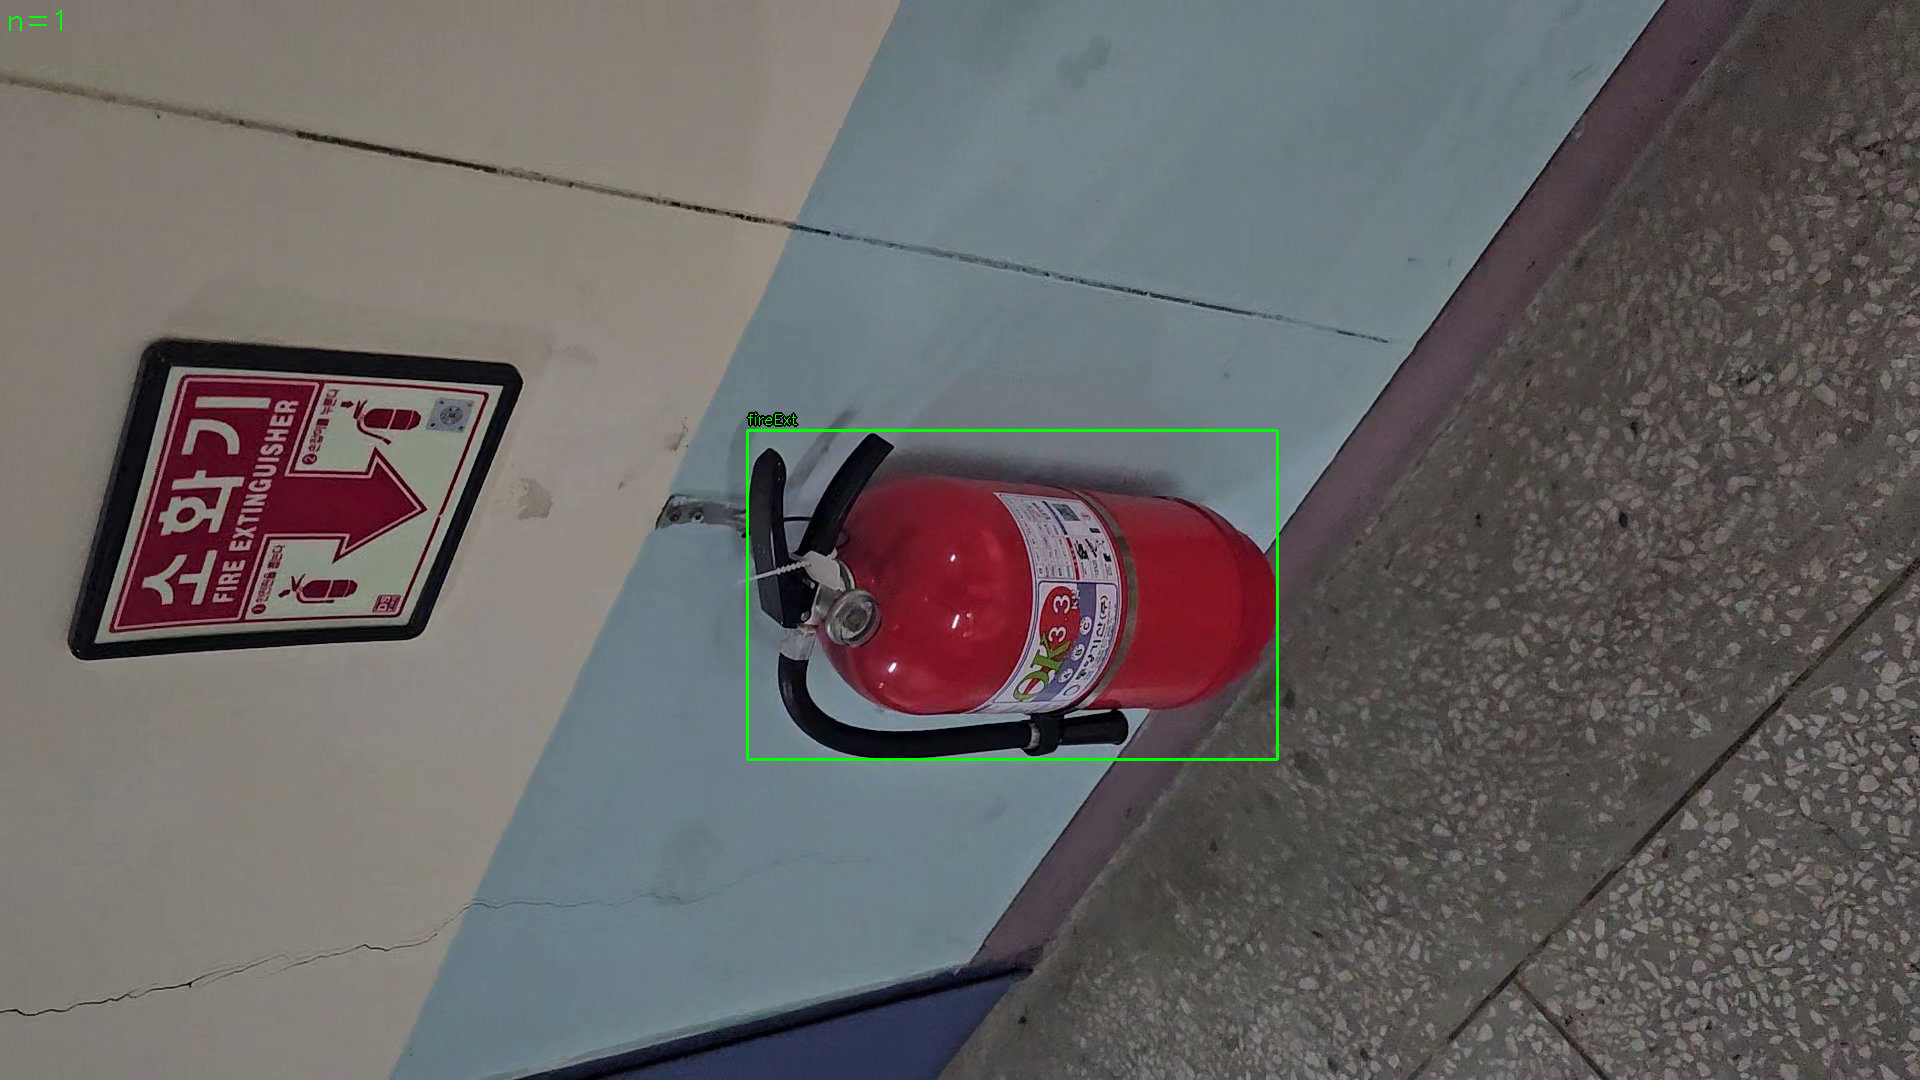lane: (746, 430, 1278, 760)
